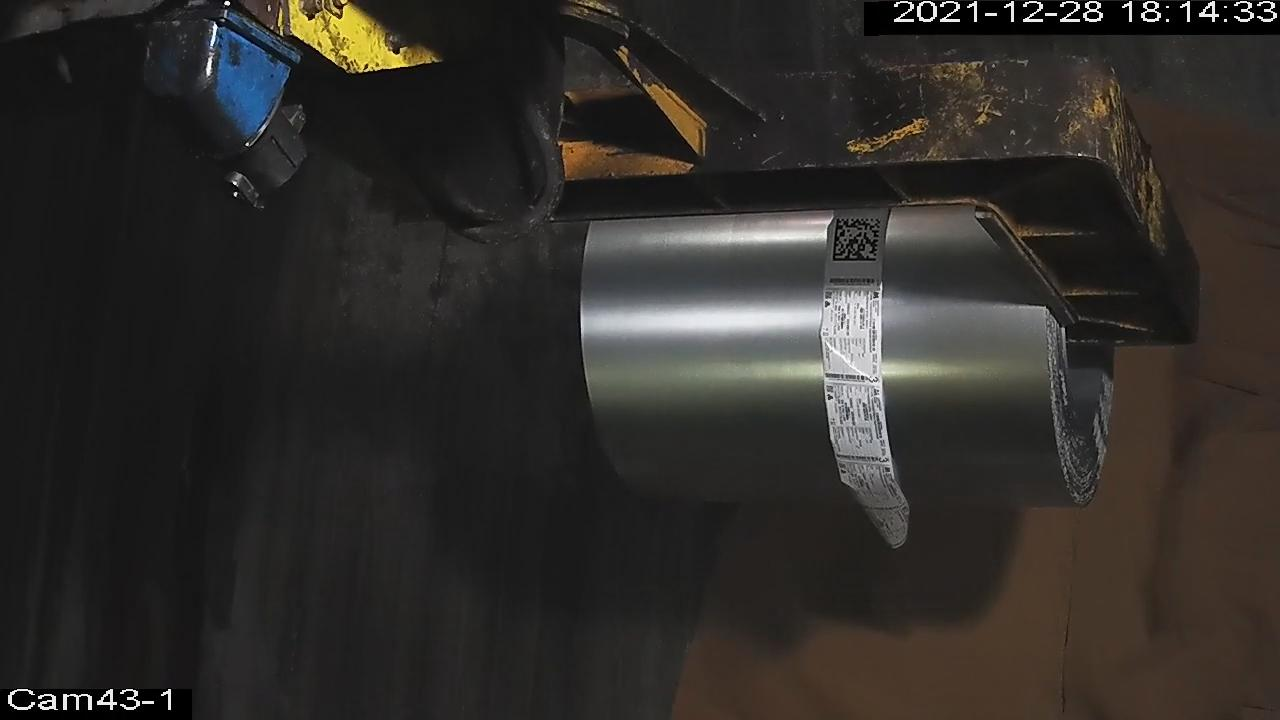data matrix: (832, 216, 883, 264)
